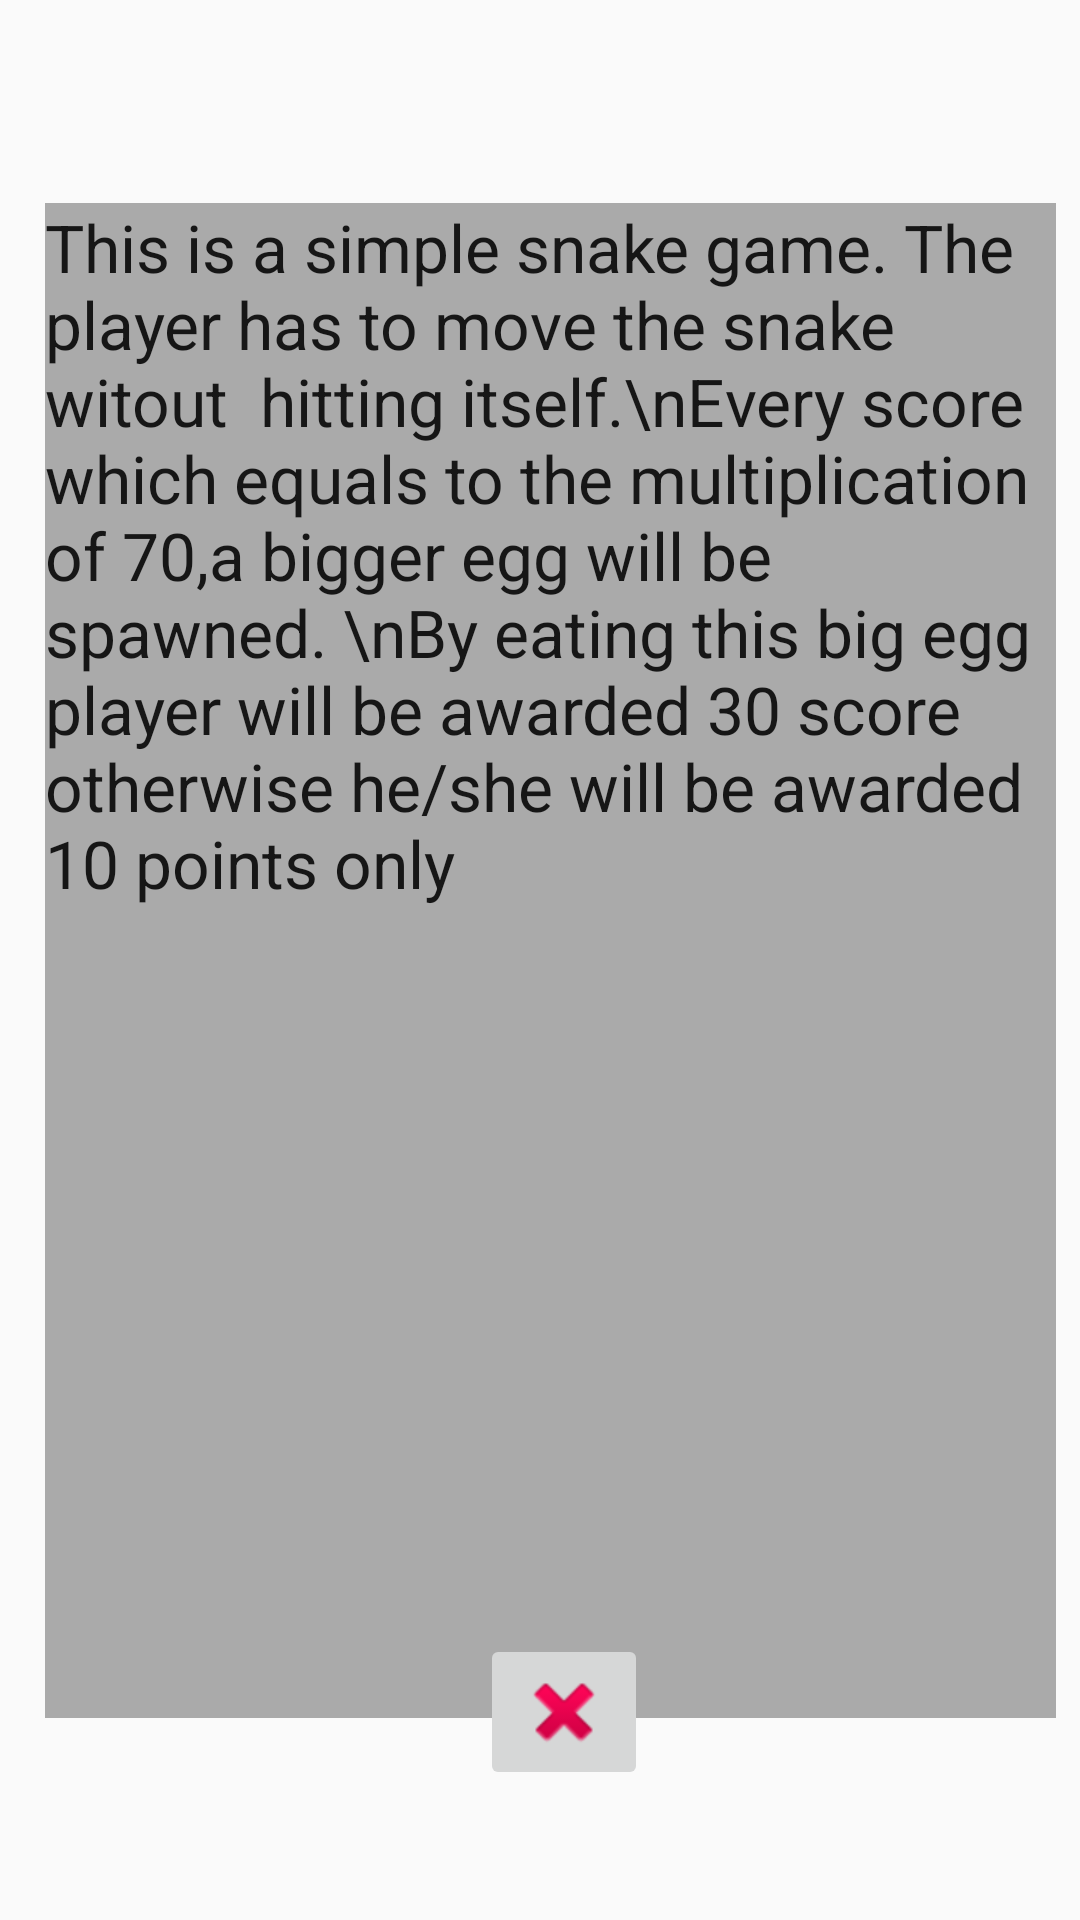

Named icons in this screenshot (1080w x 1920h) and their centers, (x=x, y=y):
delete: (x=564, y=1712)
